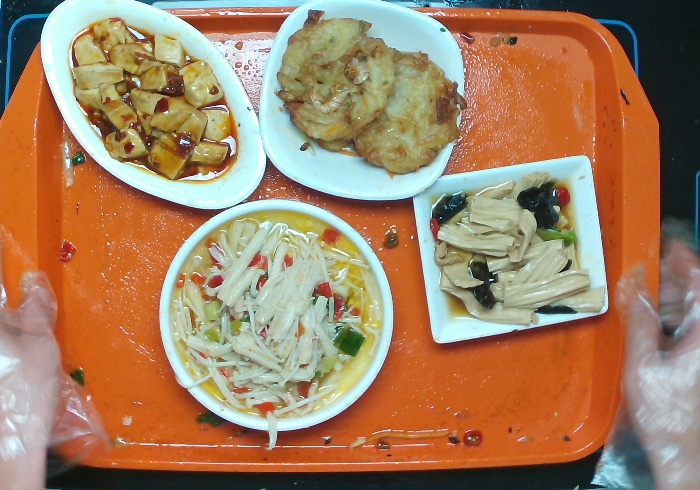HZYJPL-Si_Fang_Die: (412, 152, 616, 352)
HZYJPL-Si_Fang_Yuan_Die: (262, 1, 469, 205)
HZYJPL-Xiao_Yu_Die: (42, 1, 269, 212)
HZYJPL-Xiao_Yuan_Die: (160, 202, 394, 436)
